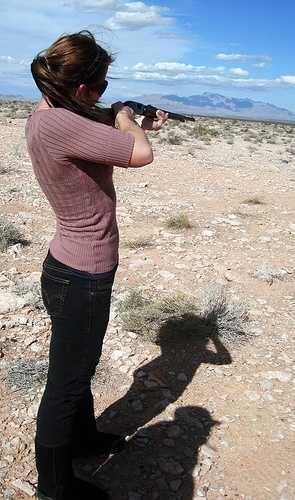heavyweapon: (90, 87, 227, 169)
